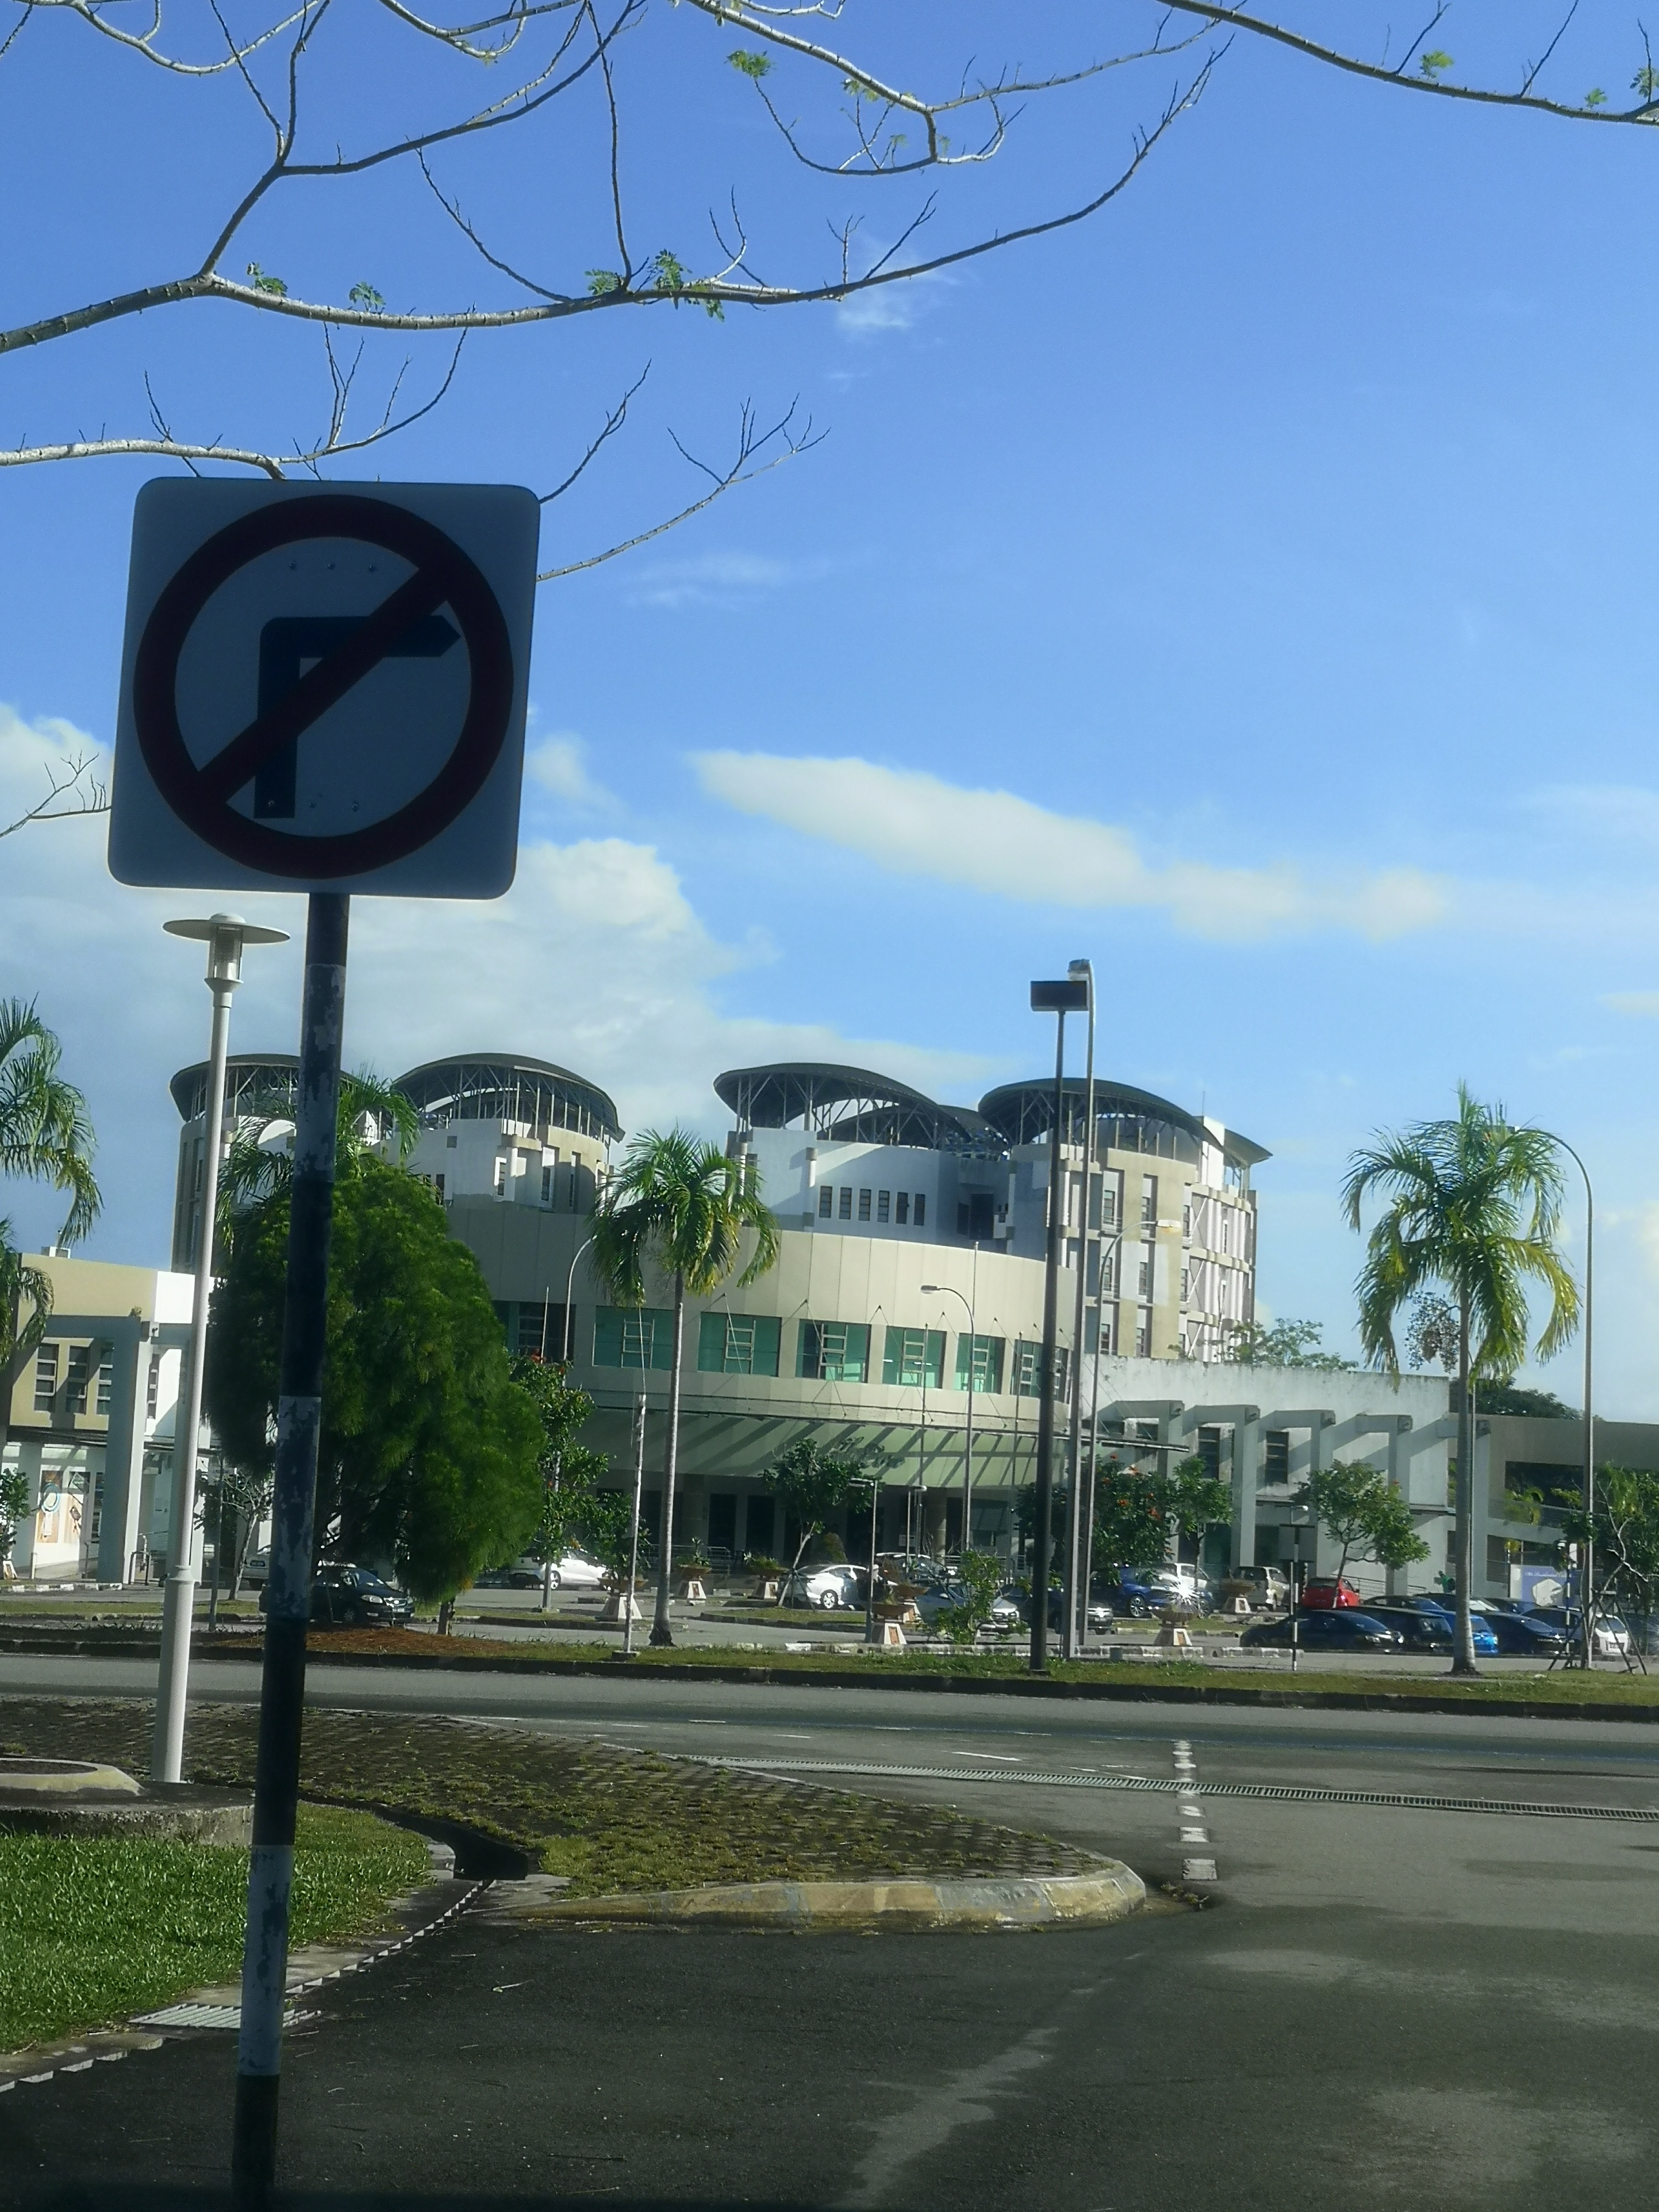no right turn: (108, 481, 552, 914)
